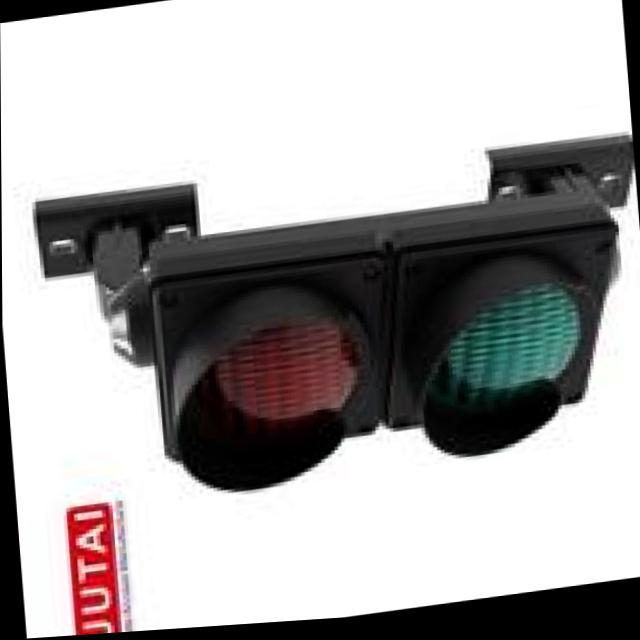green_light: (357, 74, 640, 567)
red_light: (143, 212, 396, 583)
